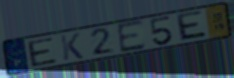2: (89, 26, 117, 59)
5: (149, 14, 174, 47)
E: (115, 18, 148, 55), (177, 9, 210, 42), (26, 36, 59, 68)
K: (59, 32, 85, 62)
